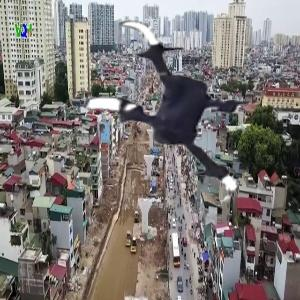drone: (57, 10, 268, 221)
